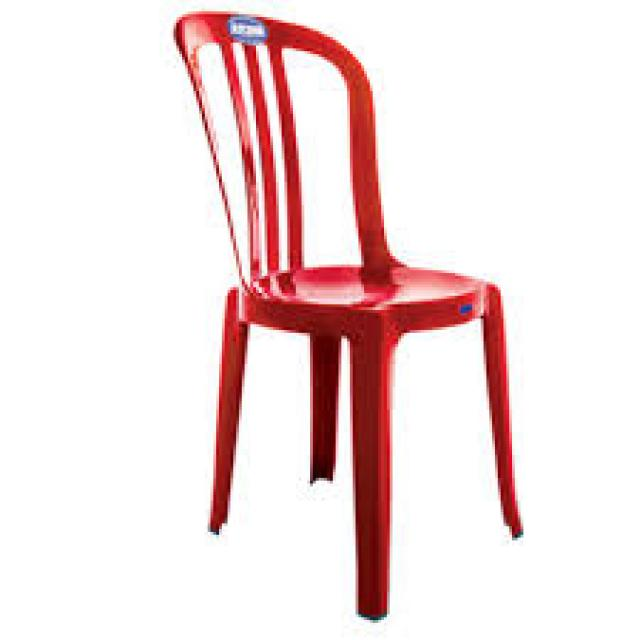chair: (135, 0, 567, 640)
